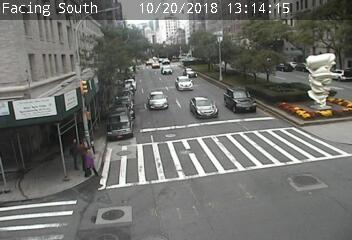car: (224, 87, 256, 112), (190, 97, 218, 117), (148, 91, 167, 109), (176, 76, 193, 90), (183, 68, 198, 77), (161, 66, 172, 75), (151, 61, 160, 68), (162, 58, 170, 65)
